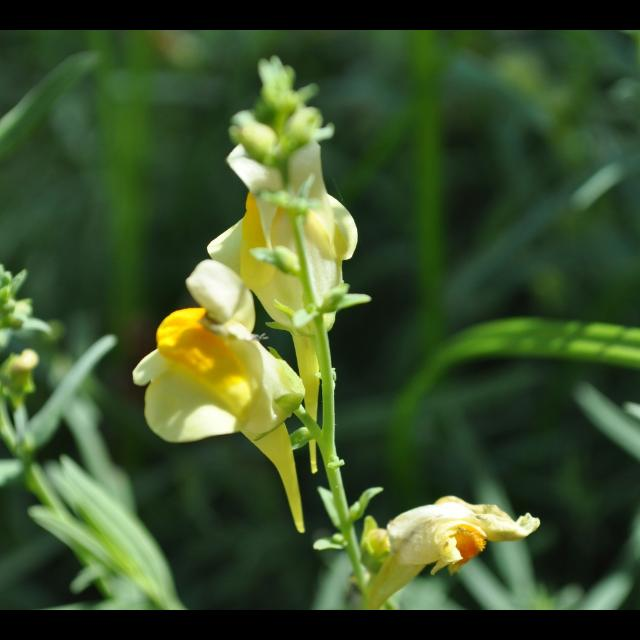Flower: (128, 257, 304, 528), (361, 502, 535, 610)
